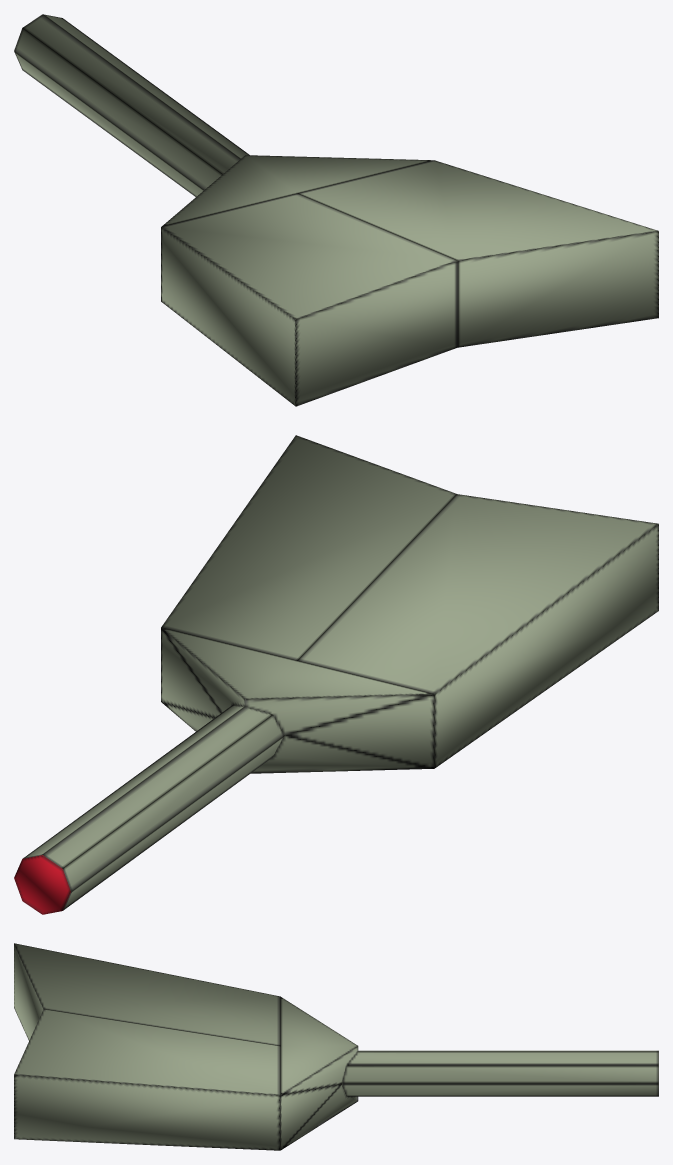
Rendered from tank_gun.glb.
3 views of the same model, one above another, from view 1: azimuth 30°, elevation 25°; view 2: azimuth 150°, elevation 25°; view 3: azimuth 270°, elevation 25° (orthographic). The views are drawn at different scales.
Parts seen in each view (by area): view 1: Cube.001; view 2: Cube.001; view 3: Cube.001.
Boxes of the visible parts, left/top/right/bottom form: Cube.001: left=14, top=14, right=658, bottom=406; Cube.001: left=14, top=435, right=658, bottom=914; Cube.001: left=14, top=943, right=658, bottom=1150.
Bounding box in the file's own units: 3.05 × 1.1 × 6.33.
Materials: 1 (1 with a texture image).
